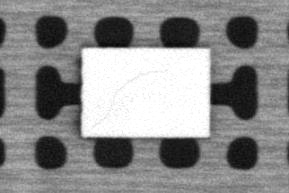DIE_CRACK: (90, 66, 167, 128)
